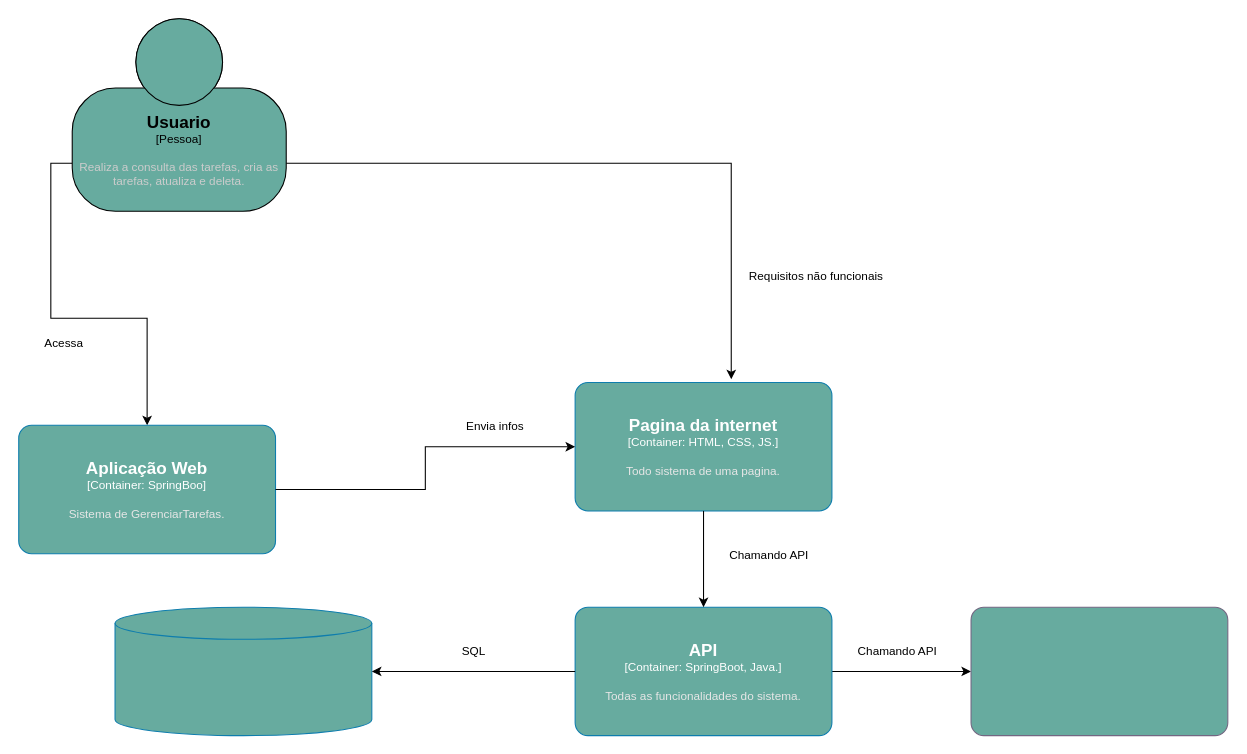
This 1247x754 diagram has some shape labels left out. The shapes that lost their labels are listed below. From the top down, each one's centre as x and y in pixels, then its label:
the point at 243,671: H2 Server [SQL: H2 Server] Armazenamento.
the point at 1099,671: Mainframe ToDoList [Software System] Emgloba todas as requisições do sistema.
